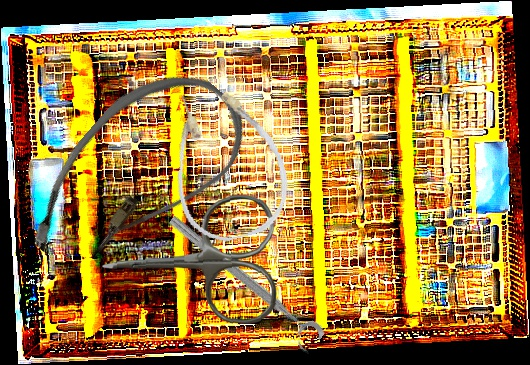Cannula: (9, 43, 264, 308), (154, 74, 300, 251)
Fixation Ring: (157, 210, 328, 357)
Iris Scissors: (98, 193, 279, 330)
